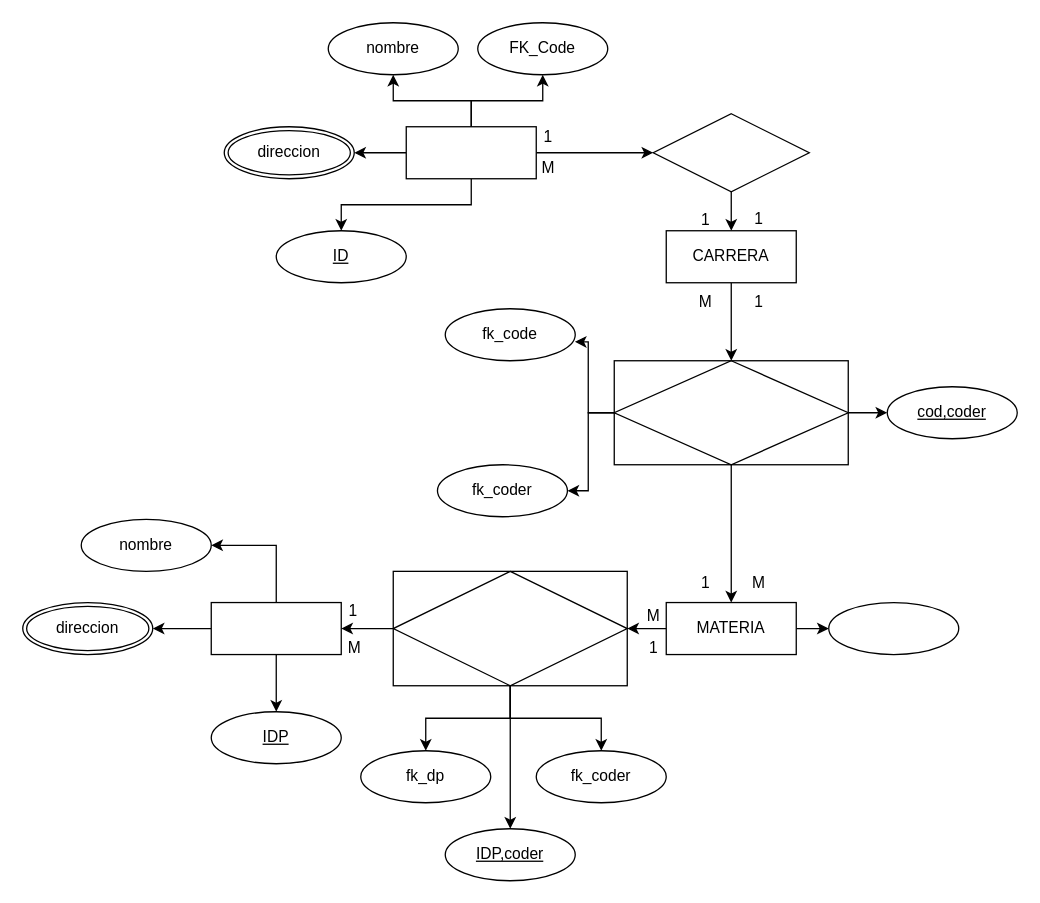
The diagram is 1040 pixels wide and 903 high, and some of its shapes have lost their labels. The centre of each missing label's shape, as x and y in pixels:
"ALUMNO" belongs at point (470, 152).
"coder" belongs at point (893, 628).
"estudia" belongs at point (730, 152).
"imparte PROFESOR-MATERIA" belongs at point (509, 628).
"PROFESOR" belongs at point (275, 628).
"tiene CARRERA-MAteria" belongs at point (730, 412).
